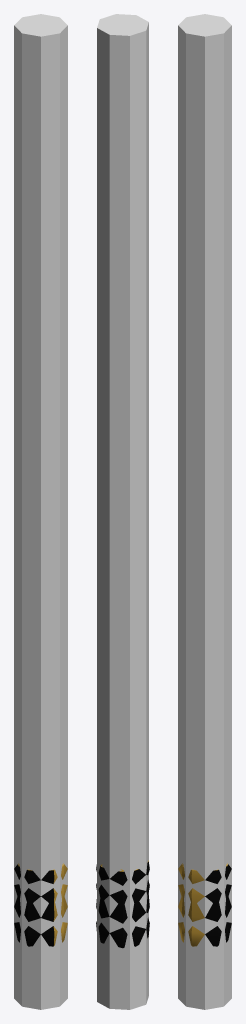
The model's file is mdl_ra3_chhikhits_lapiz.fbx.
3 views of the same model, side by side, from view 1: azimuth 90°, elevation 25°; view 2: azimuth 150°, elevation 25°; view 3: azimuth 270°, elevation 25° (orthographic).
Visible parts, largest first — view 1: COL_Chhikhits_Lapiz, SM_Chhikhits_Lapiz; view 2: COL_Chhikhits_Lapiz, SM_Chhikhits_Lapiz; view 3: COL_Chhikhits_Lapiz, SM_Chhikhits_Lapiz.
Part boxes in pixels (x1,y1,x2,y2): COL_Chhikhits_Lapiz: (14,14,67,1009); SM_Chhikhits_Lapiz: (14,863,67,946); COL_Chhikhits_Lapiz: (97,14,148,1009); SM_Chhikhits_Lapiz: (96,860,149,948); COL_Chhikhits_Lapiz: (178,14,231,1009); SM_Chhikhits_Lapiz: (178,863,231,946).
Bounding box in the file's own units: 0.009 × 0.18 × 0.009.
